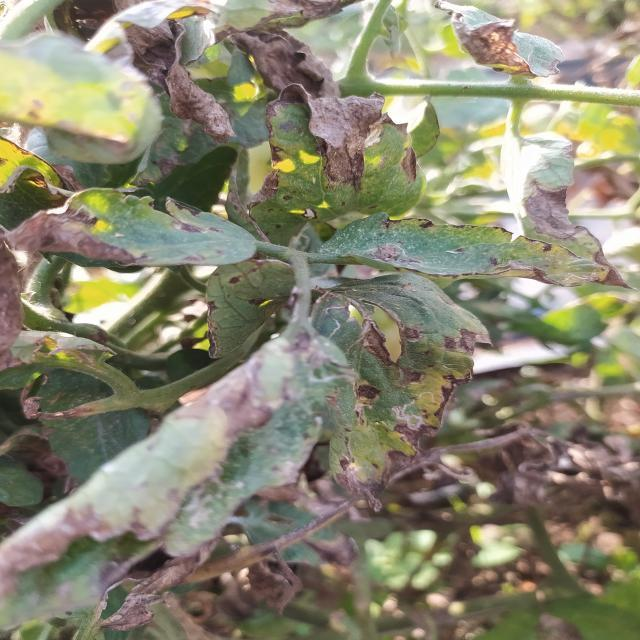Tomato mosaic virus leaf: (319, 211, 635, 295)
